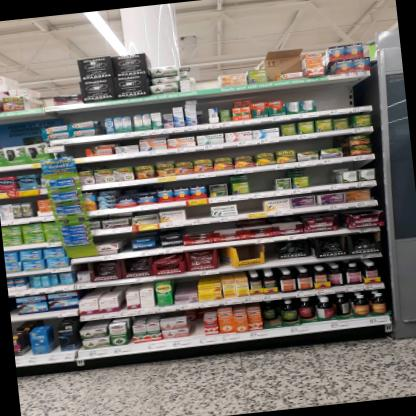empty_space: (312, 86, 335, 113), (335, 83, 359, 108), (248, 171, 274, 193), (308, 164, 332, 186), (194, 69, 217, 90), (186, 204, 211, 221), (237, 199, 261, 213), (66, 143, 85, 160), (42, 86, 54, 108), (266, 61, 278, 82), (197, 107, 207, 124)
